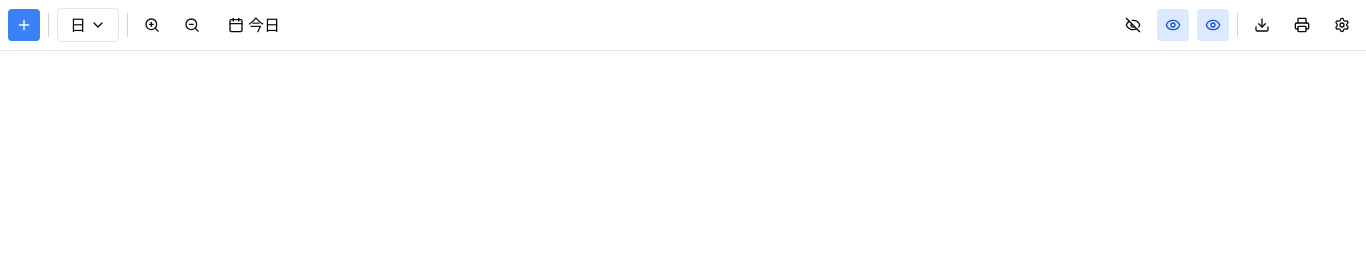
Test case: GanttToolbar › エクスポート機能 › エクスポートメニューが表示される
Click the button named "エクスポート" at point(1262, 25), box x1=1246 y1=9 x2=1278 y2=41
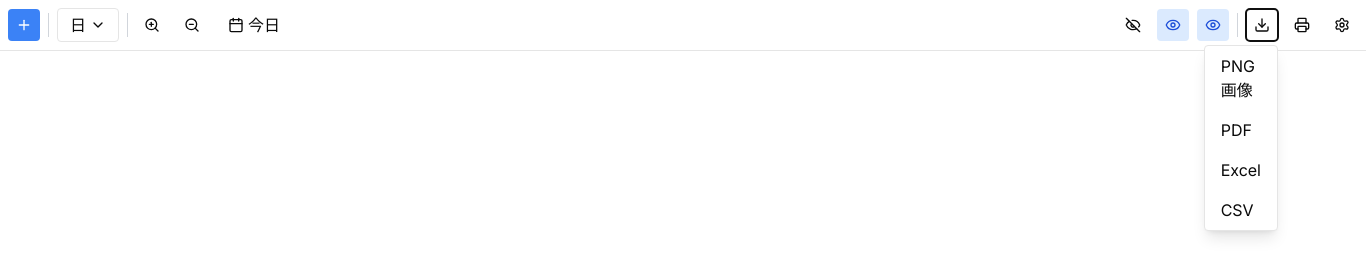
Result: the button "PNG画像" is shown at x1=1205 y1=46 x2=1277 y2=110
Result: the button "PDF" is shown at x1=1205 y1=110 x2=1277 y2=150
Result: the button "Excel" is shown at x1=1205 y1=150 x2=1277 y2=190
